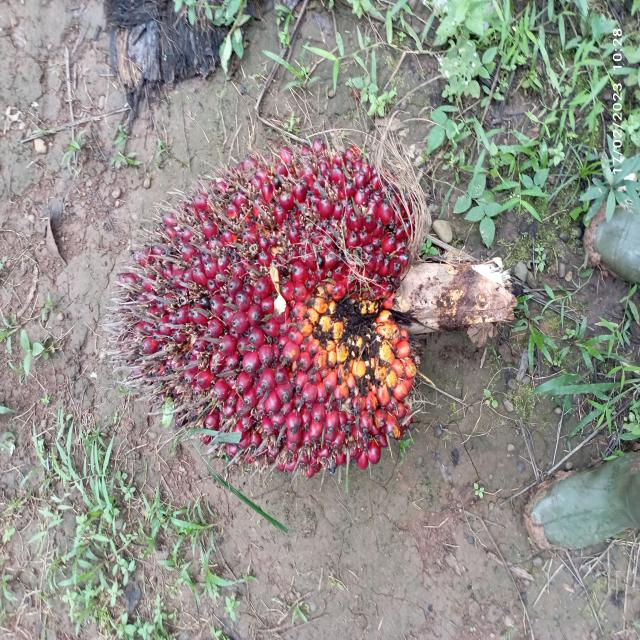fraksi 3: (98, 135, 433, 496)
